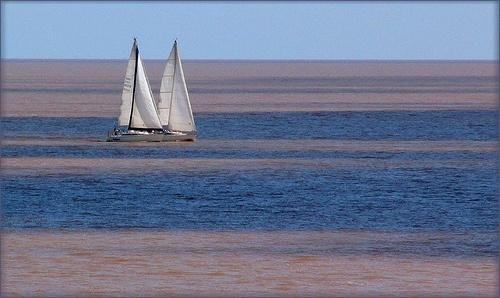boat: (106, 35, 168, 144), (157, 40, 199, 145)
